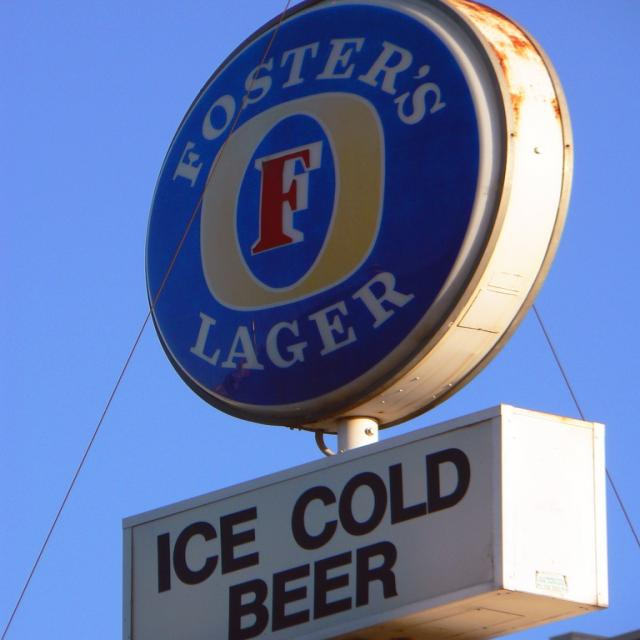fosters: (197, 89, 392, 314)
